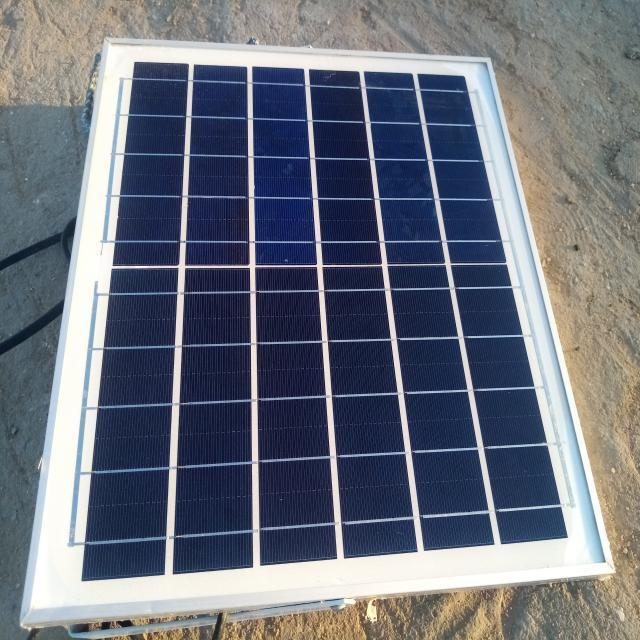Normal Solar Panel: (20, 45, 609, 617)
